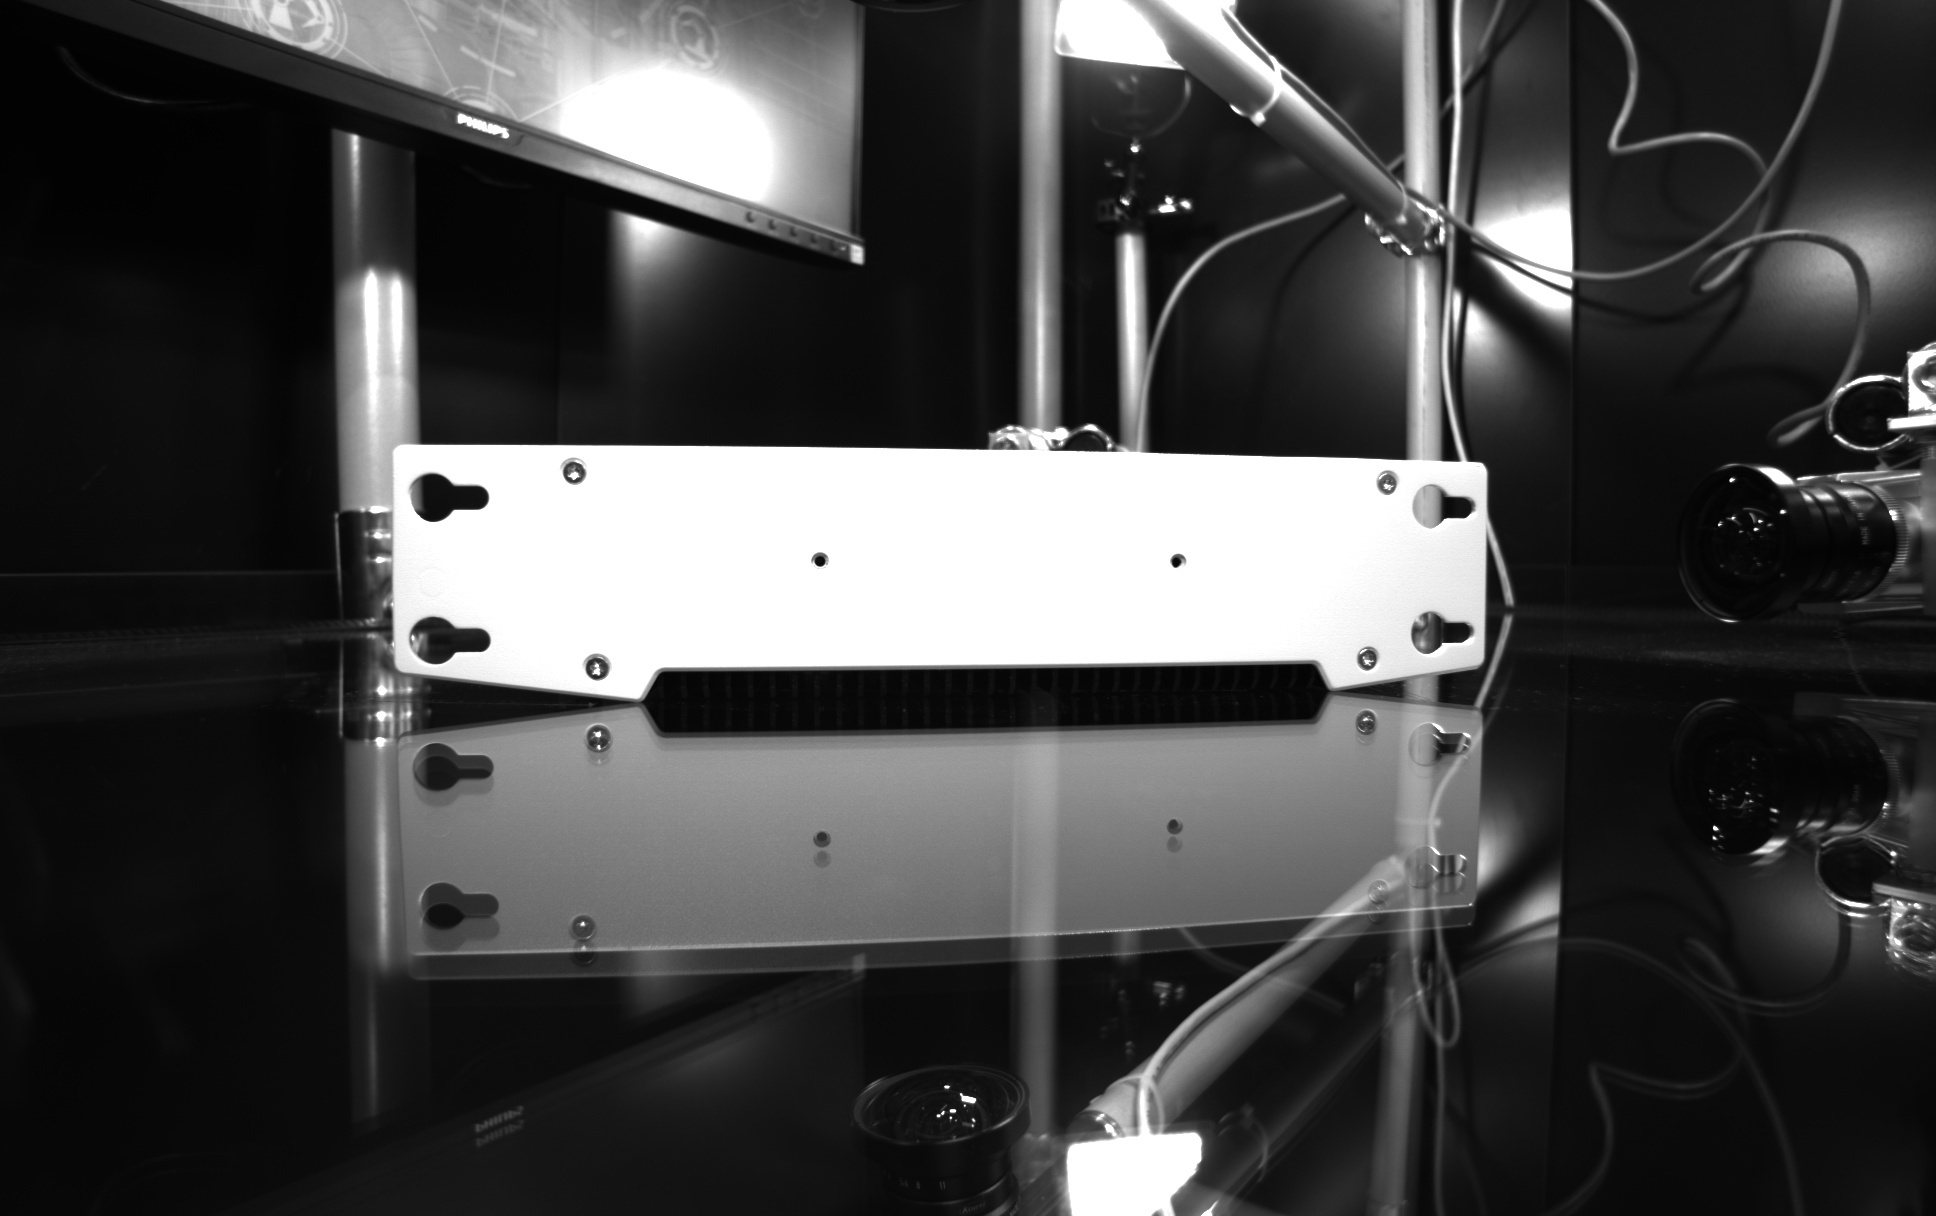CamBack: (354, 417, 1526, 691)
Schraube: (555, 454, 594, 495), (1350, 639, 1390, 679), (1369, 467, 1408, 506), (579, 646, 616, 686)
Schraube_gespiegelt: (560, 906, 601, 974), (1357, 873, 1399, 932), (574, 719, 616, 775), (1343, 703, 1387, 755)
